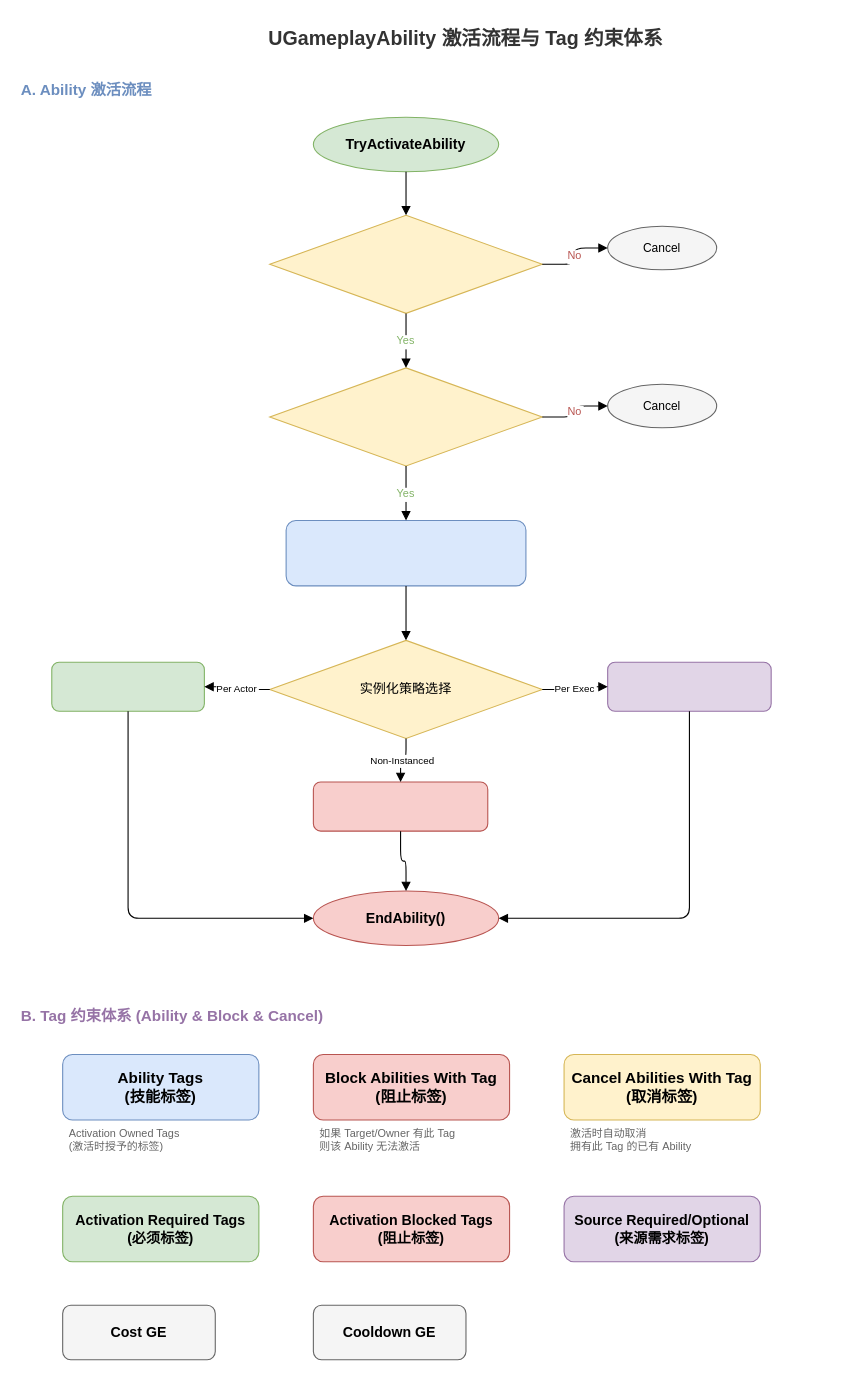
Some shapes in this 865 by 1379 pixel diagram are drawn without their labels. Here are the shapes that lost their labels. From the top down, the centre of each, then its label:
(x=405, y=263): CanActivateAbility() 检查所有 Tag 约束
(x=405, y=416): CommitAbility() 检查 Cost / Cooldown
(x=405, y=552): ActivateAbility() 执行技能逻辑
(x=127, y=686): Instanced Per Actor
(x=689, y=686): Instanced Per Execution
(x=400, y=806): Non-Instanced (CDO)
